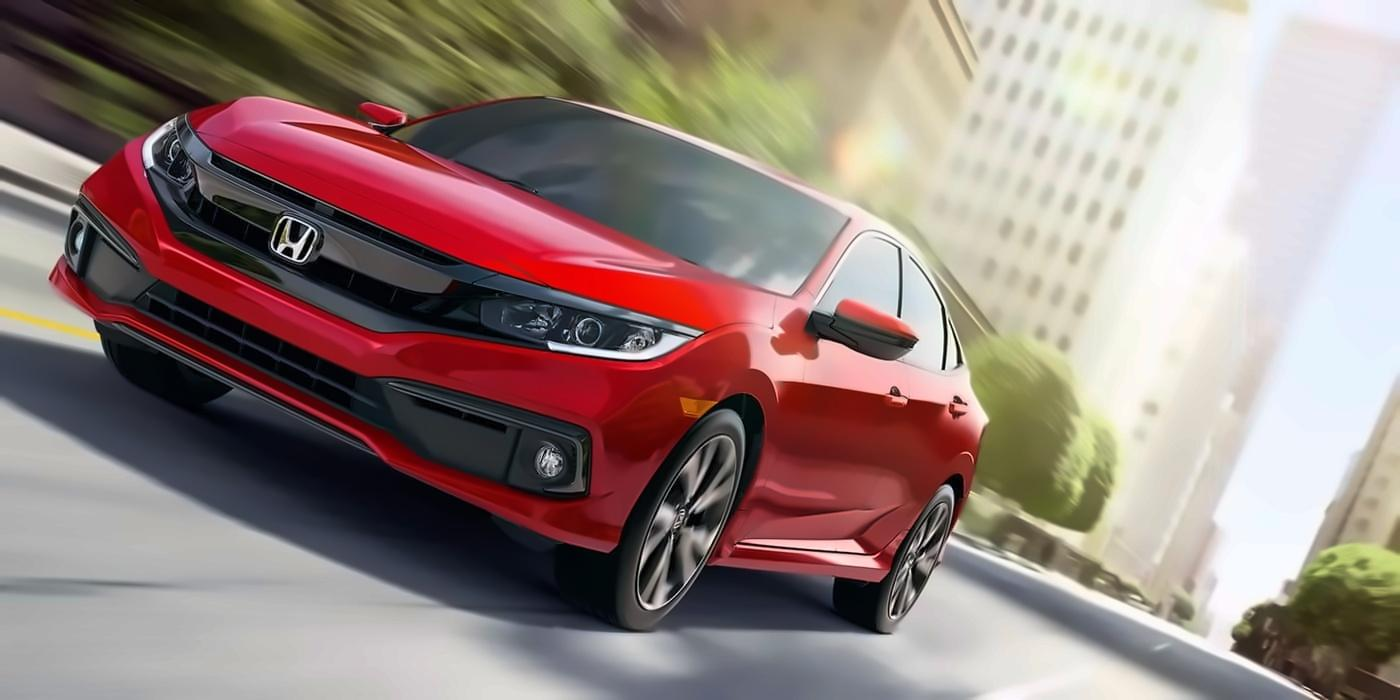Car hood: (180, 92, 779, 333)
Fender - -F-L-: (656, 280, 814, 550)
Front bumper: (47, 146, 694, 559)
Headlight - -L-: (466, 269, 707, 376)
Headlight - -R-: (139, 106, 219, 192)
Passenger-s door - -F-L-: (749, 220, 906, 559)
Passenger-s door - -R-L-: (842, 220, 971, 571)
Side bumper - -L-: (706, 506, 911, 588)
Side mirror - -L-: (802, 290, 921, 363)
Side mirror - -R-: (346, 86, 416, 141)
